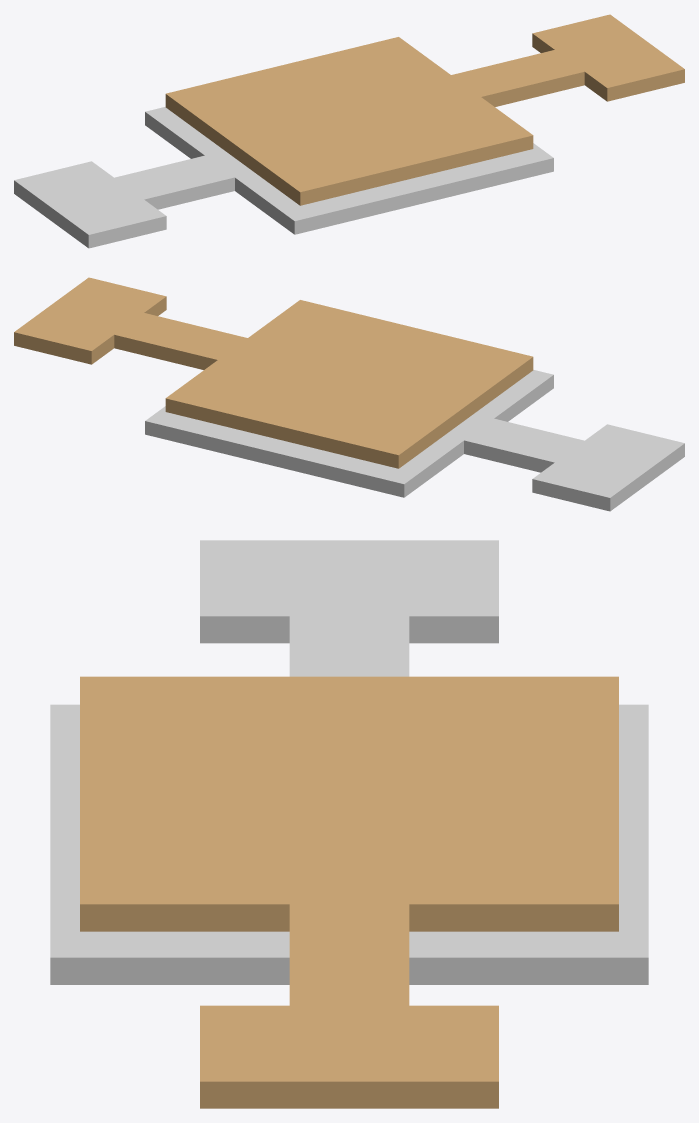
Rendered from board.glb.
The picture shows the model from 3 angles, top to bottom: view 1: azimuth 30°, elevation 25°; view 2: azimuth 150°, elevation 25°; view 3: azimuth 270°, elevation 25°; orthographic projection. The views are drawn at different scales.
Parts seen in each view (by area): view 1: Unified_Net_2_Contour_0, Unified_Net_1_Contour_0; view 2: Unified_Net_2_Contour_0, Unified_Net_1_Contour_0; view 3: Unified_Net_2_Contour_0, Unified_Net_1_Contour_0.
Boxes of the visible parts, x1,y1,x2,y2 form: Unified_Net_2_Contour_0: [165, 14, 684, 205]; Unified_Net_1_Contour_0: [14, 107, 553, 248]; Unified_Net_2_Contour_0: [14, 277, 533, 468]; Unified_Net_1_Contour_0: [145, 370, 684, 511]; Unified_Net_2_Contour_0: [80, 676, 618, 1108]; Unified_Net_1_Contour_0: [50, 540, 648, 984].
Bounding box in the file's own units: 4.6e-06 × 2.5e-07 × 2e-06.
